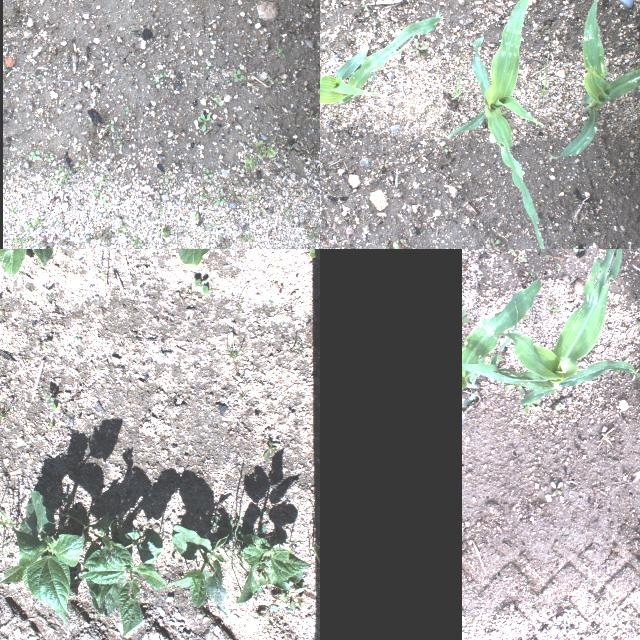crop: (461, 249, 635, 404), (446, 0, 550, 249), (549, 0, 639, 157), (0, 490, 83, 626), (320, 15, 440, 105), (462, 271, 540, 394), (75, 543, 172, 637), (82, 513, 162, 615), (167, 524, 230, 616), (234, 532, 310, 602), (0, 249, 63, 276), (177, 249, 235, 265)
weed: (258, 585, 304, 623), (240, 138, 278, 164), (220, 343, 244, 365), (195, 108, 212, 134), (408, 39, 428, 57), (97, 226, 113, 248), (154, 163, 174, 180), (20, 218, 44, 232), (150, 72, 170, 88), (211, 233, 231, 249), (540, 58, 548, 98), (262, 440, 278, 460), (450, 70, 460, 100), (11, 232, 29, 248), (192, 277, 208, 295), (43, 393, 59, 411), (507, 249, 526, 264), (0, 506, 13, 526), (230, 66, 246, 82), (27, 146, 43, 162), (306, 222, 320, 240), (229, 176, 247, 190), (55, 161, 67, 181), (483, 236, 500, 249), (56, 236, 76, 247), (214, 187, 226, 205), (105, 116, 116, 134), (201, 60, 217, 72), (0, 407, 14, 420), (36, 237, 51, 249), (0, 538, 11, 554), (204, 164, 213, 183), (236, 233, 250, 245), (155, 227, 171, 237), (49, 216, 65, 226), (393, 238, 409, 248), (210, 96, 222, 108), (98, 194, 110, 206), (122, 101, 132, 115), (534, 23, 550, 31), (189, 210, 199, 222), (132, 236, 142, 248), (6, 207, 18, 217), (22, 73, 34, 81), (361, 0, 369, 12), (274, 49, 282, 60), (47, 150, 53, 164), (36, 342, 50, 348), (443, 144, 451, 154), (326, 106, 332, 118), (72, 335, 82, 341), (635, 318, 640, 330), (424, 74, 430, 80), (296, 342, 302, 348), (268, 299, 274, 305), (572, 244, 580, 248), (336, 108, 340, 116), (382, 23, 386, 29)
